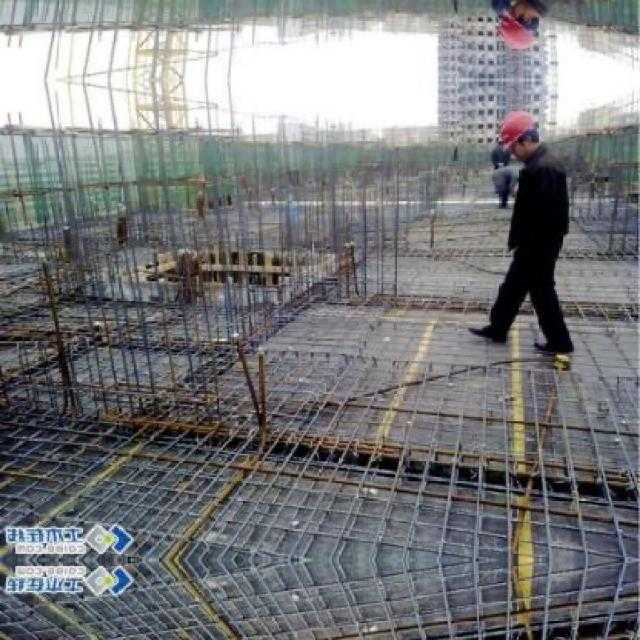helmet: (492, 106, 545, 163), (491, 0, 545, 55)
